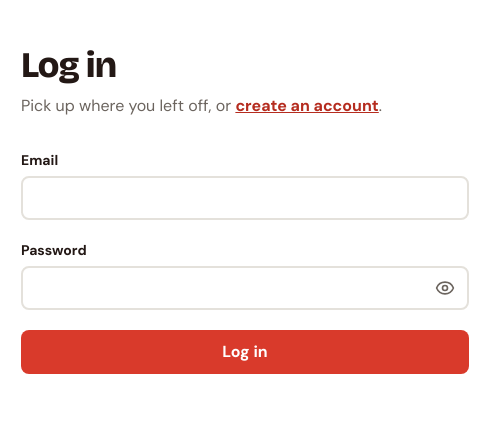
Test: Login page › shows the server message when the login is refused
Type "milan@example.com" into the field labelled "Email".
click(245, 198); type("milan@example.com")  # box [21,176,469,220]
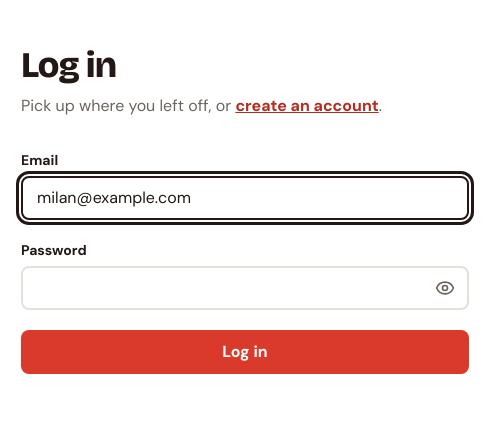
Type "WrongPass1" into the password field labelled "Password".
click(245, 288); type("WrongPass1")  # box [21,266,469,310]
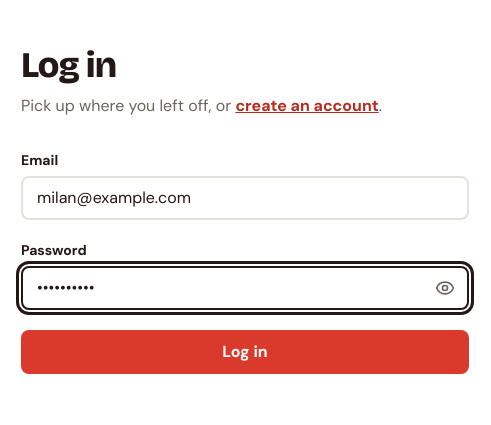
Click the button "Log in".
click(245, 352)  # box [21,330,469,374]
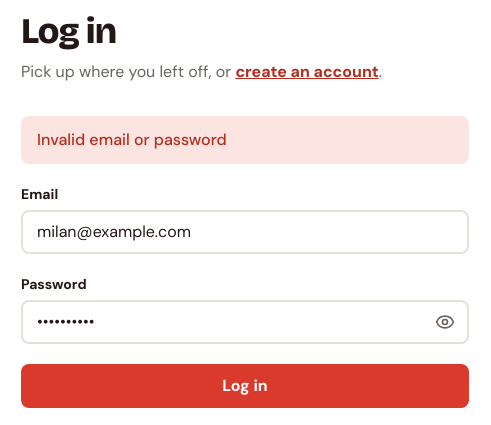
expect the message "Invalid email or password" is shown: met, box [21,116,469,164]
